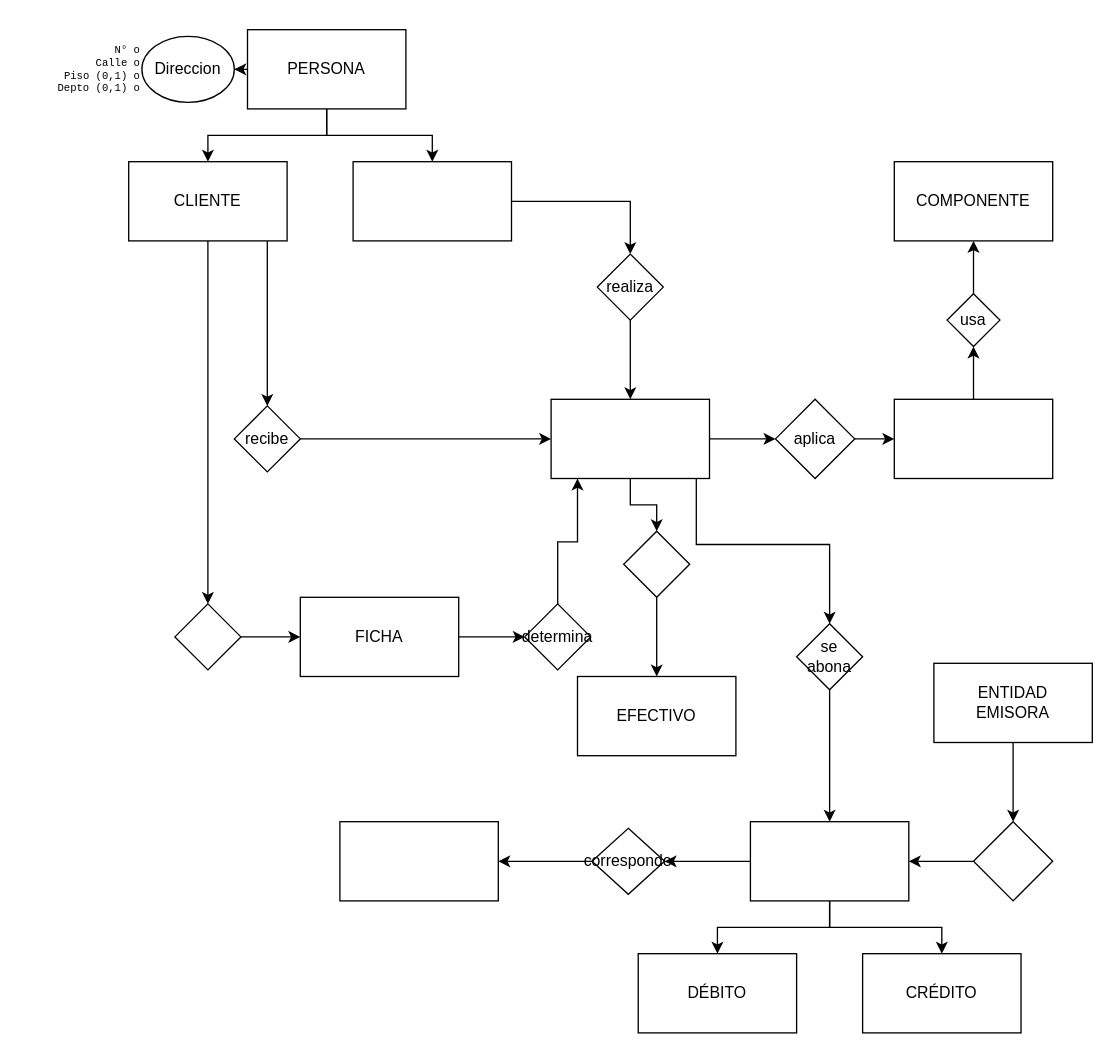
This 1115x1056 diagram has some shape labels left out. The centre of each missing label's shape, as x and y in pixels:
"ATENCION" belongs at point 630,438.
"BANCO" belongs at point 418,860.
"emite" belongs at point 1012,860.
"PELUQUERO" belongs at point 432,200.
"posee" belongs at point 207,636.
"se paga" belongs at point 656,563.
"TARJETA" belongs at point 829,860.
"TRATAMIENTO" belongs at point 973,438.
